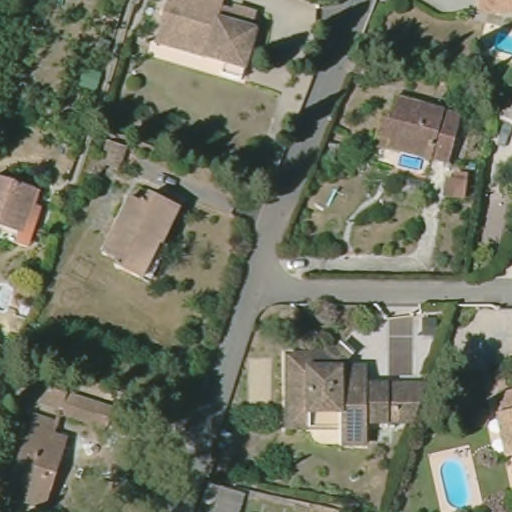pool: (431, 451, 478, 510), (393, 150, 429, 171), (493, 25, 512, 58)
